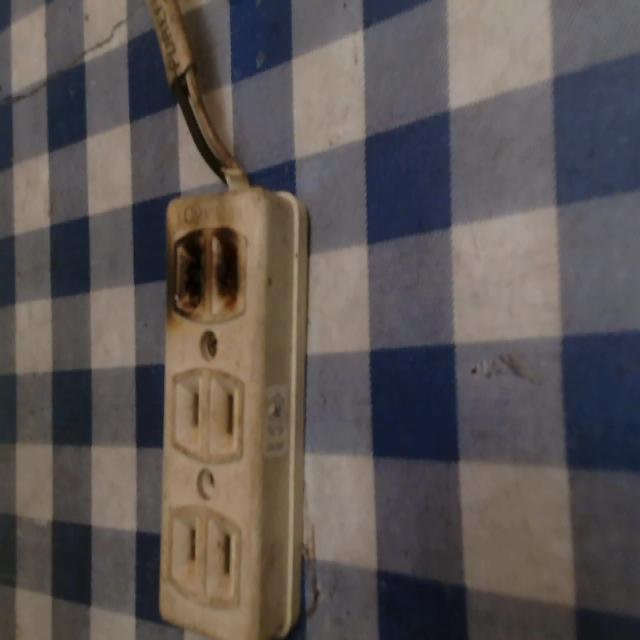-: (166, 215, 257, 316)
